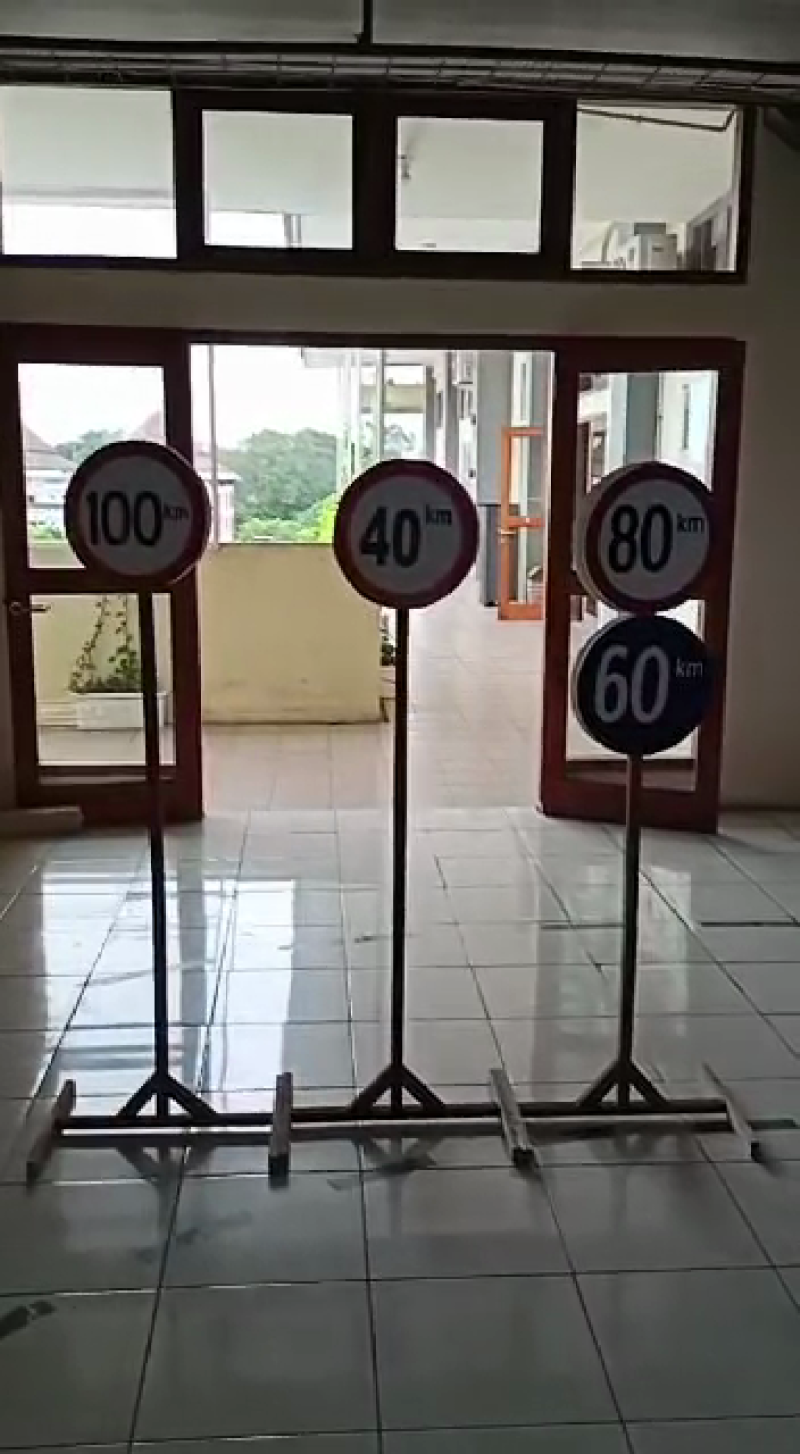batas maksimal 100kmperjam: (68, 431, 216, 601)
batas maksimal 40kmperjam: (331, 446, 483, 620)
batas maksimal 80kmperjam minimal 60kmperjam: (585, 455, 709, 764)
